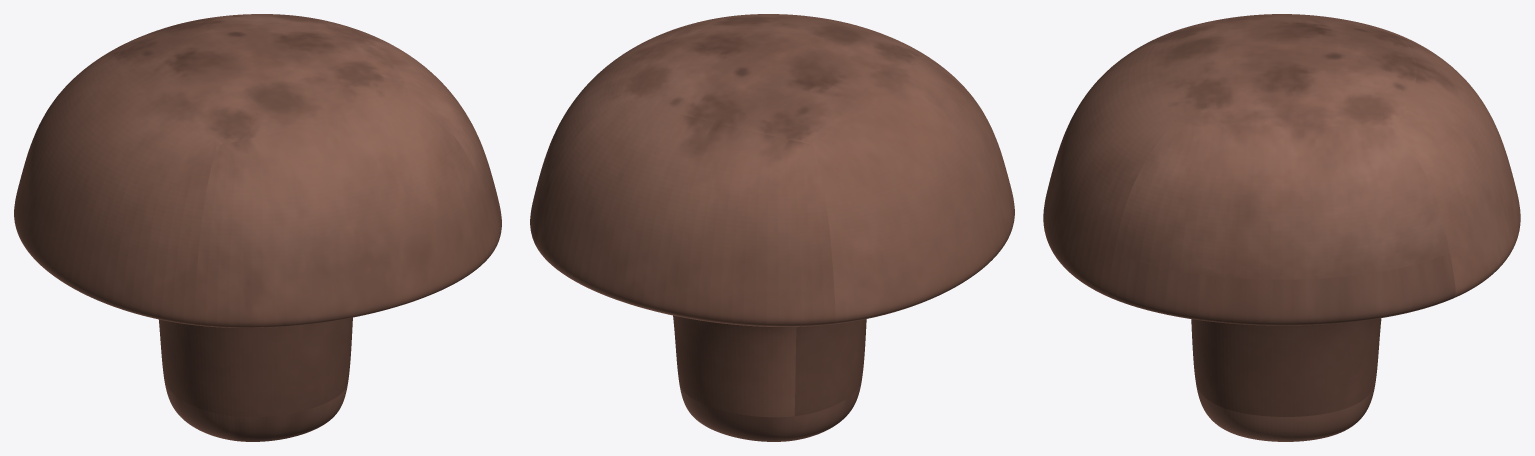
The model's file is Pilz2.fbx.
The picture shows the model from 3 angles, left to right: view 1: azimuth 30°, elevation 25°; view 2: azimuth 150°, elevation 25°; view 3: azimuth 270°, elevation 25°; orthographic projection.
Parts seen in each view (by area): view 1: Cube.001; view 2: Cube.001; view 3: Cube.001.
Part boxes in pixels (left/top/right/bottom): Cube.001: left=14, top=14, right=501, bottom=441; Cube.001: left=530, top=14, right=1014, bottom=441; Cube.001: left=1043, top=14, right=1520, bottom=441.
Bounding box in the file's own units: 31.59 × 26.85 × 31.59.
